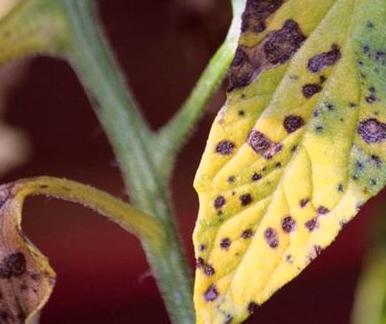Tomato Septoria leaf spot: (173, 0, 386, 324)
